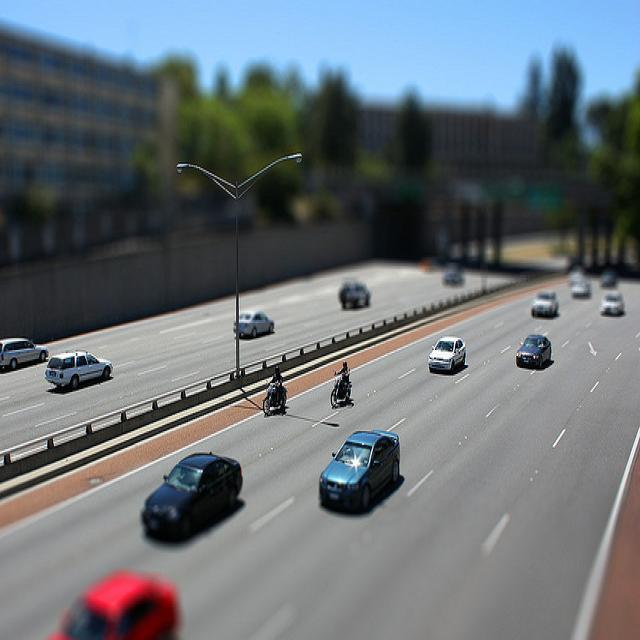motor: (261, 379, 287, 418), (331, 378, 355, 410)
